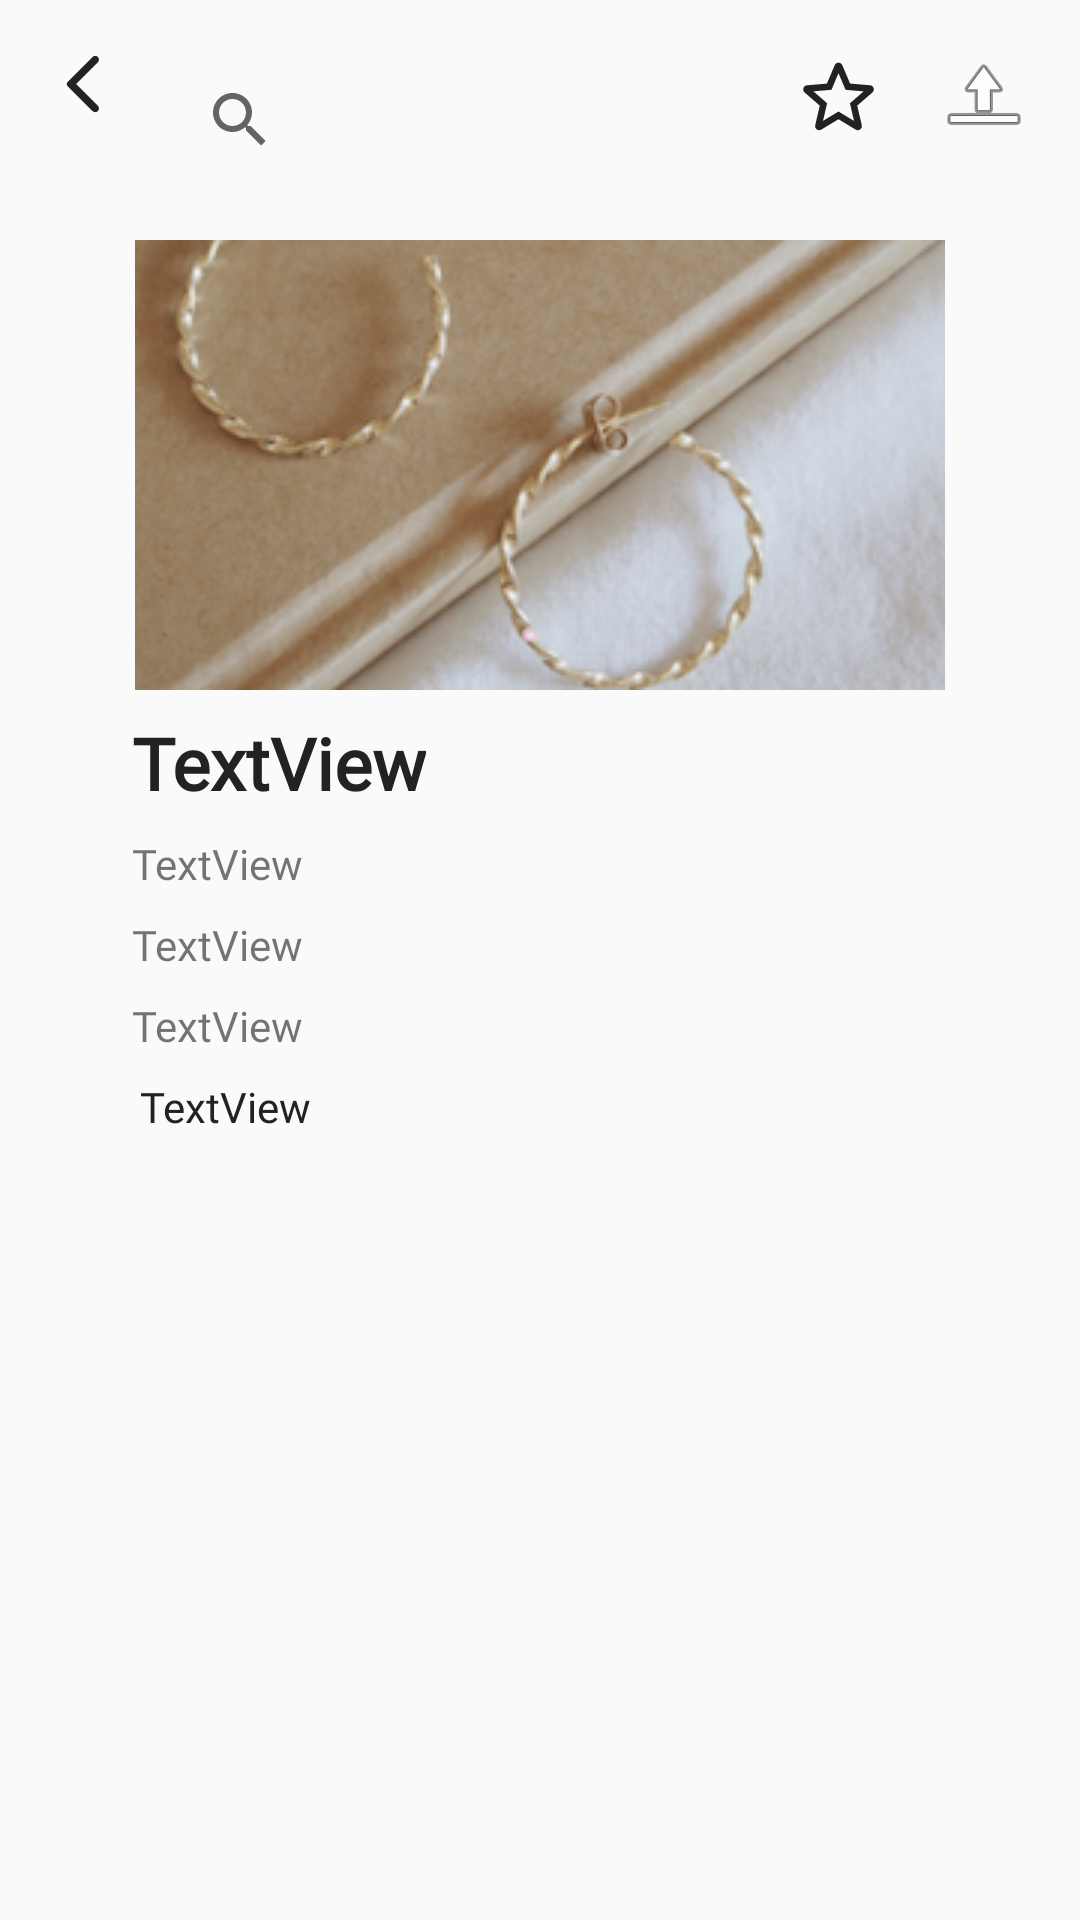

Icons on this 1080x1920 Android screen, each with its box as (x1, y1, x2, y2):
arrow back: (66, 56, 99, 113)
star border: (803, 62, 874, 131)
upload: (947, 64, 1021, 125)
